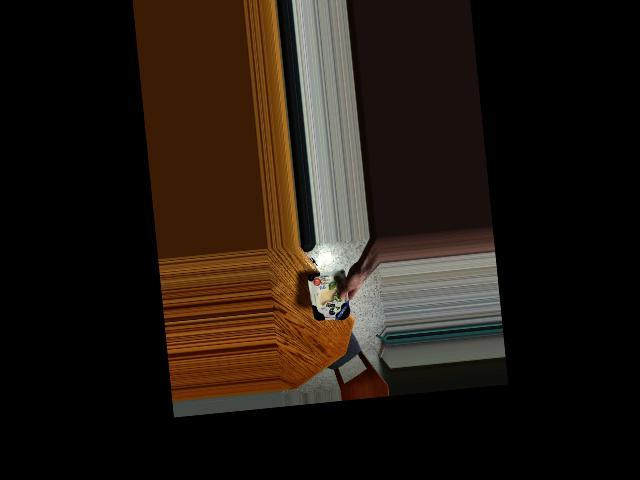cheese: (306, 258, 353, 333)
